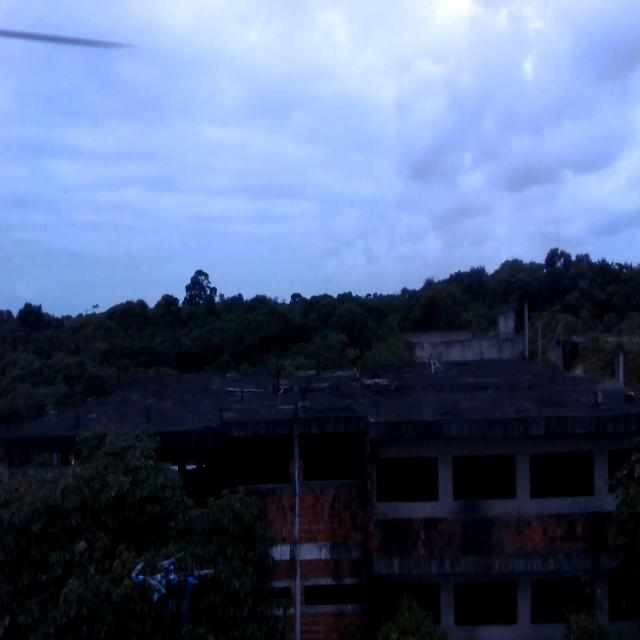-uav-: (120, 551, 215, 633)
